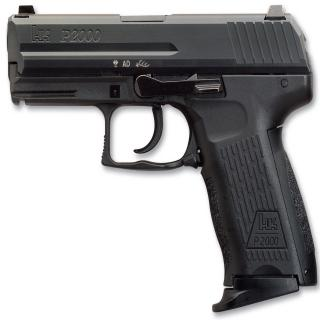gun: (5, 30, 310, 285)
